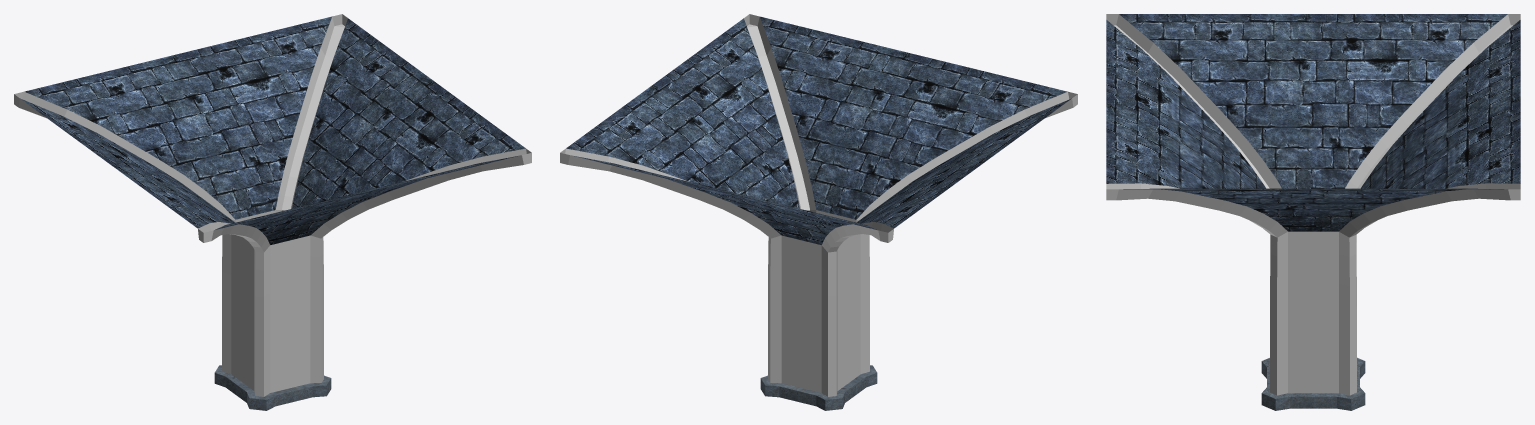
The model's file is ArchPilar.FBX.
3 views of the same model, side by side, from view 1: azimuth 30°, elevation 25°; view 2: azimuth 150°, elevation 25°; view 3: azimuth 270°, elevation 25° (orthographic). The views are drawn at different scales.
Visible parts, largest first — view 1: Roof_08; view 2: Roof_08; view 3: Roof_08.
Boxes of the visible parts, x1,y1,x2,y2 form: Roof_08: [14, 14, 531, 410]; Roof_08: [560, 14, 1077, 410]; Roof_08: [1106, 14, 1520, 410].
Size of the model in its own units: 91.85 by 70.28 by 91.85.
